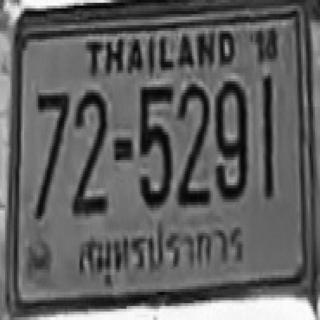N01: (261, 74, 272, 195)
N02: (71, 87, 105, 213), (177, 83, 208, 204)
N05: (138, 84, 171, 205)
N07: (34, 90, 68, 216)
N09: (214, 78, 246, 196)
P57: (71, 220, 252, 284)
